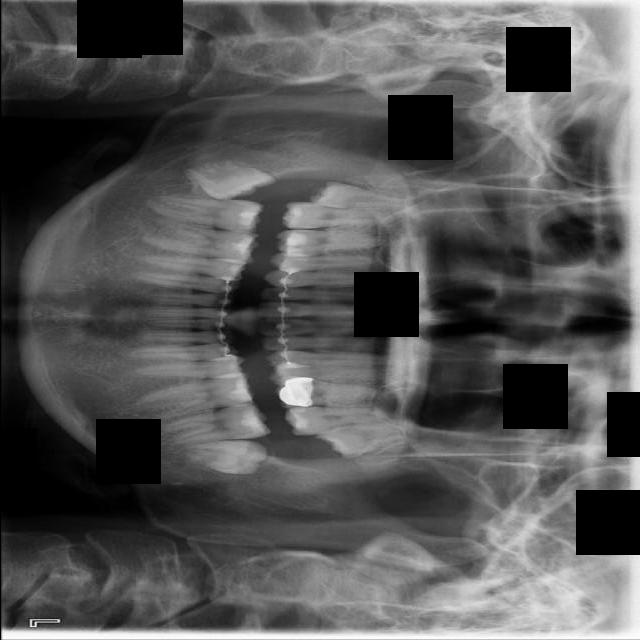3M ESPE Implant: (308, 179, 413, 220)
52: (218, 396, 271, 448), (209, 368, 256, 414), (211, 226, 259, 267), (273, 372, 321, 412), (282, 404, 329, 438), (220, 198, 263, 235), (278, 229, 319, 257)
73: (42, 596, 52, 608)
BioHorizons Implant: (284, 406, 387, 435)
BioLife Implant: (314, 416, 416, 463)
Biomet 3i Implant: (190, 440, 266, 475)
Blue Sky Bio Implant: (161, 401, 270, 445)
Caries: (282, 202, 404, 229)
Implant: (147, 194, 263, 235)
Keystone Dental Implant: (180, 147, 277, 217)
